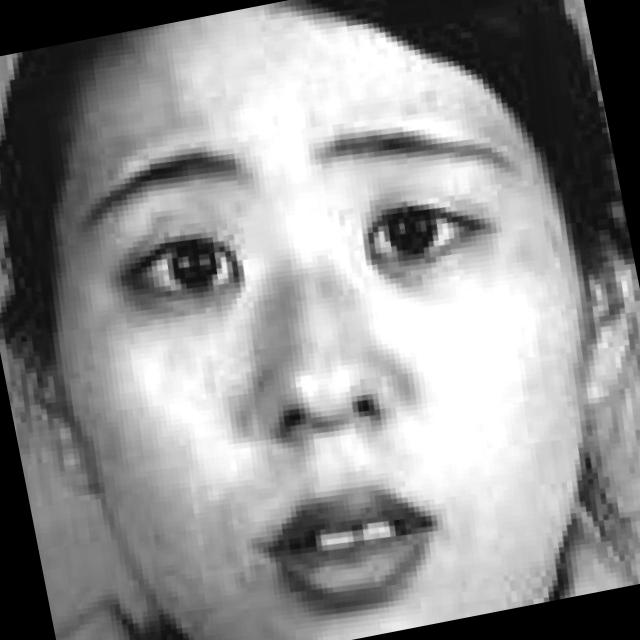fear: (81, 0, 606, 640)
